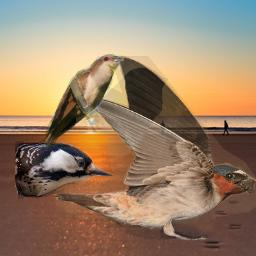Cuckoo: (41, 54, 123, 150)
Swallow: (52, 56, 256, 242)
Woodpecker: (15, 138, 113, 199)
